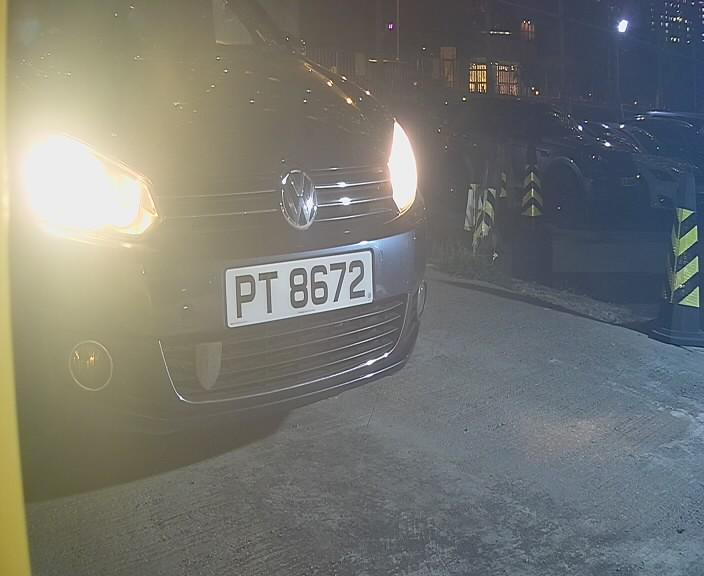Car: (1, 6, 522, 451)
License Plate: (214, 242, 375, 337)
